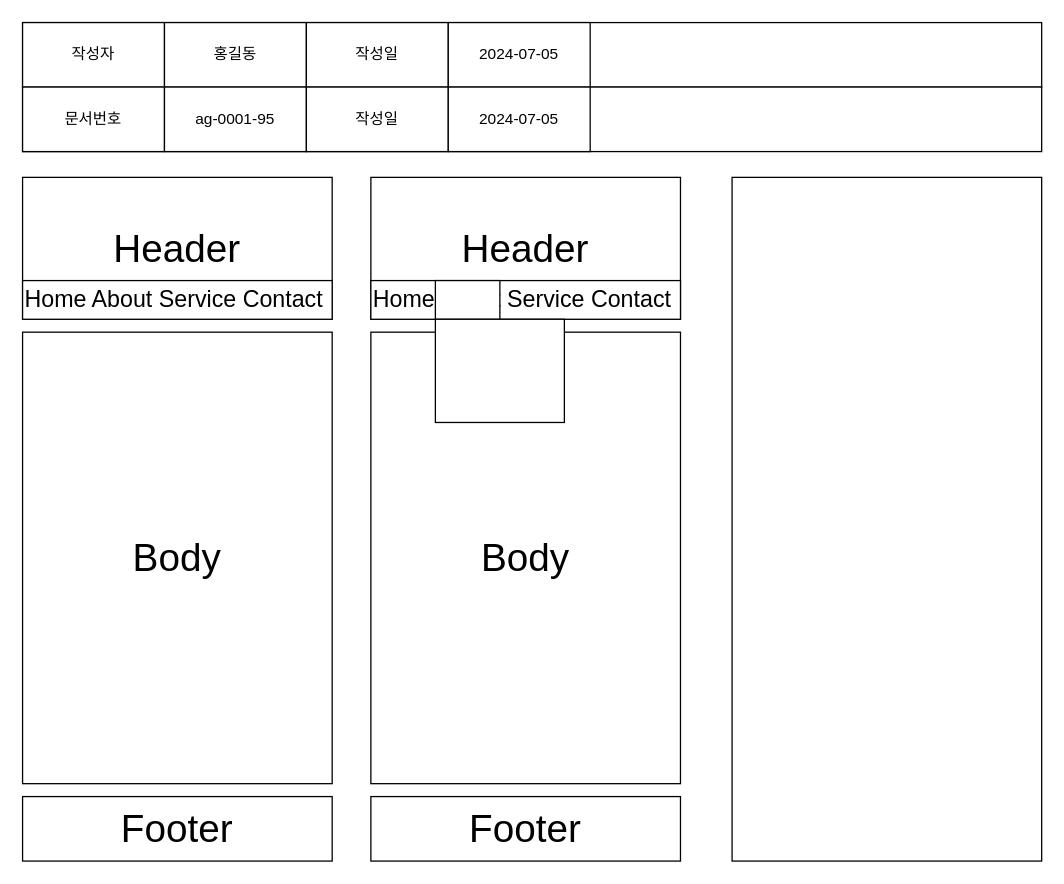
The diagram is 1064 pixels wide and 884 high, and some of its shapes have lost their labels. The shapes that lost their labels are listed below. From the top down, each one's centre as x and y in pixels, then its label:
point (467, 299): About
point (499, 370): Overview Team Job
point (886, 518): 화면의 동작을 설명
